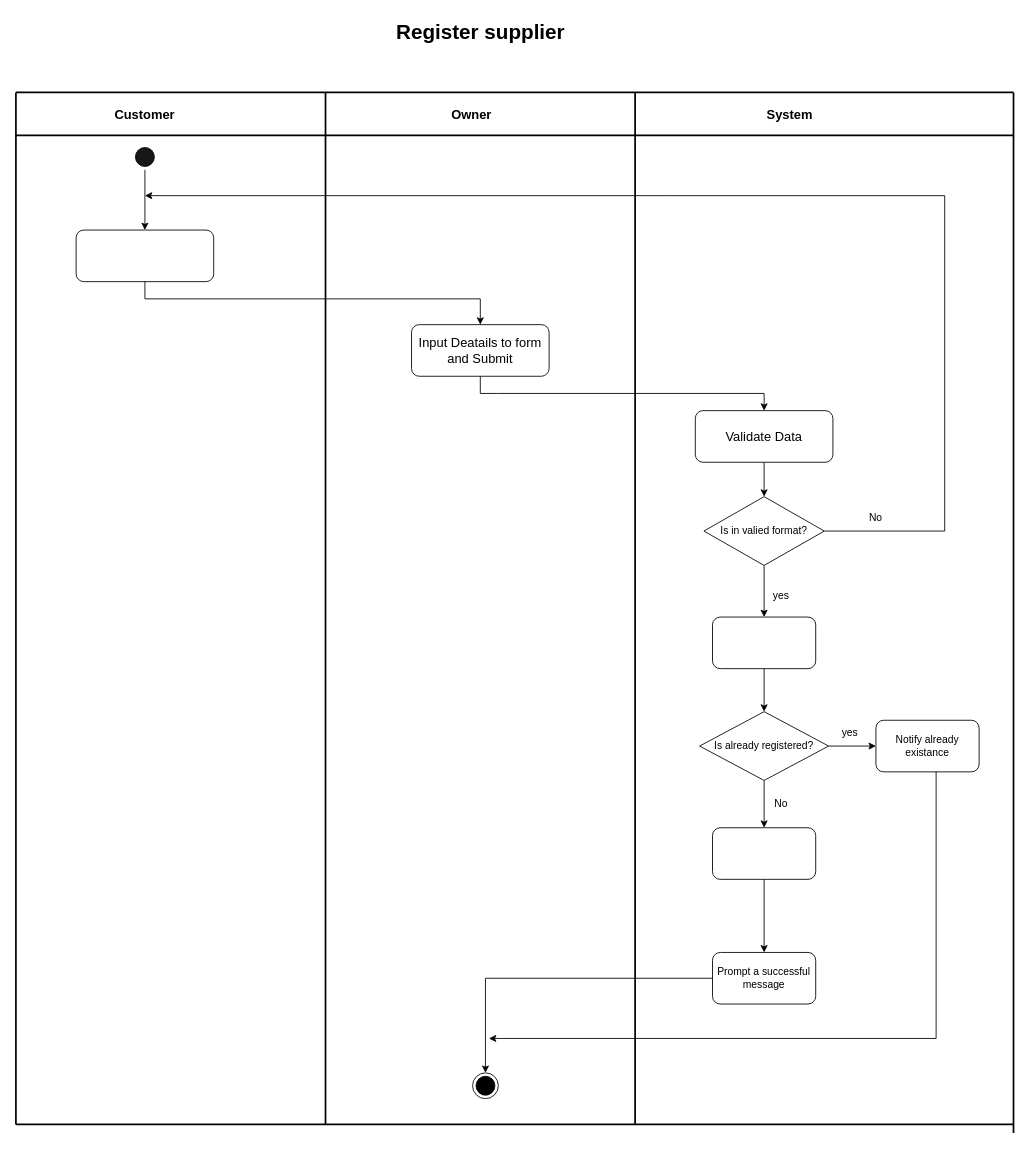
This 1029x1149 diagram has some shape labels left out. The shapes that lost their labels are listed below. From the top down, each one's centre as x and y in pixels, then its label:
At (x=144, y=255): "Give details".
At (x=764, y=642): "Check is already registered through phone No".
At (x=764, y=853): "Store data in Database".
